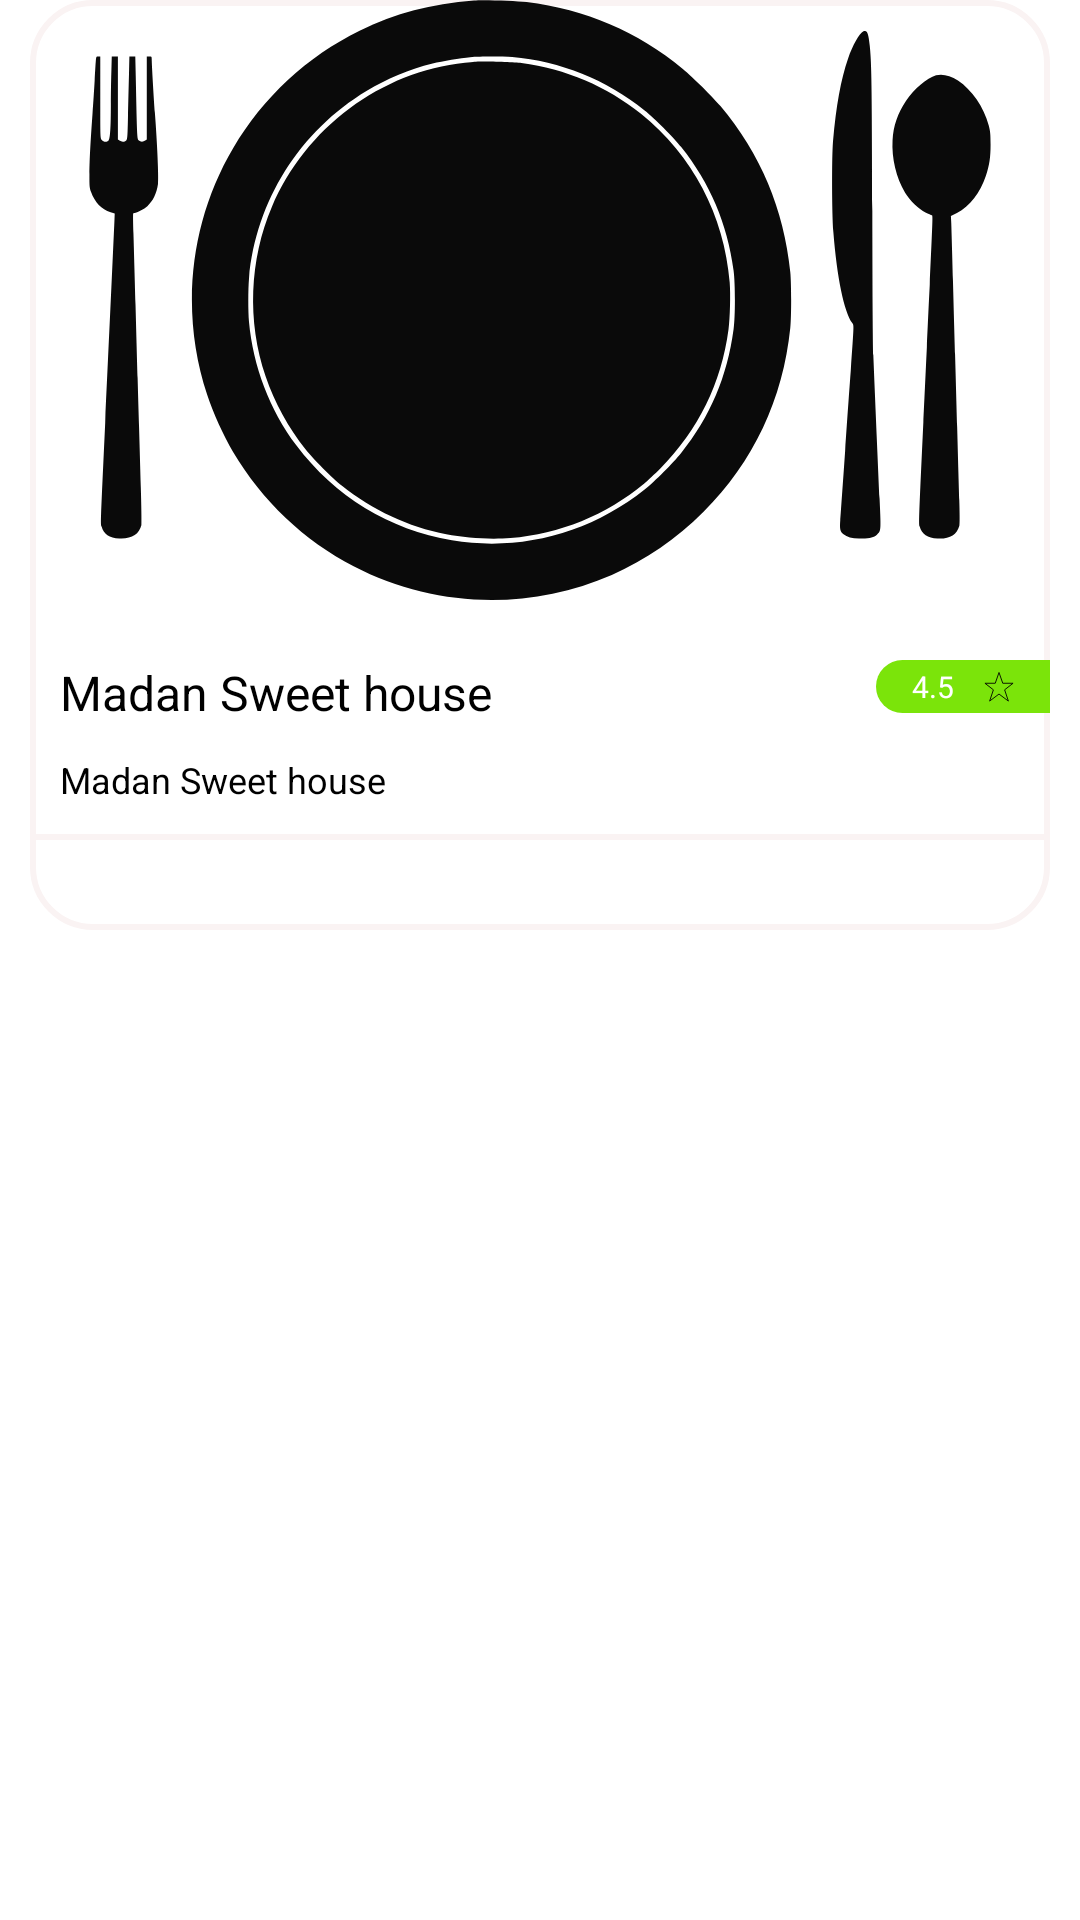

Where icons sit on this 1080*1920 app screen, as (x1, y1, x2, y2):
star: (985, 672, 1013, 702)
